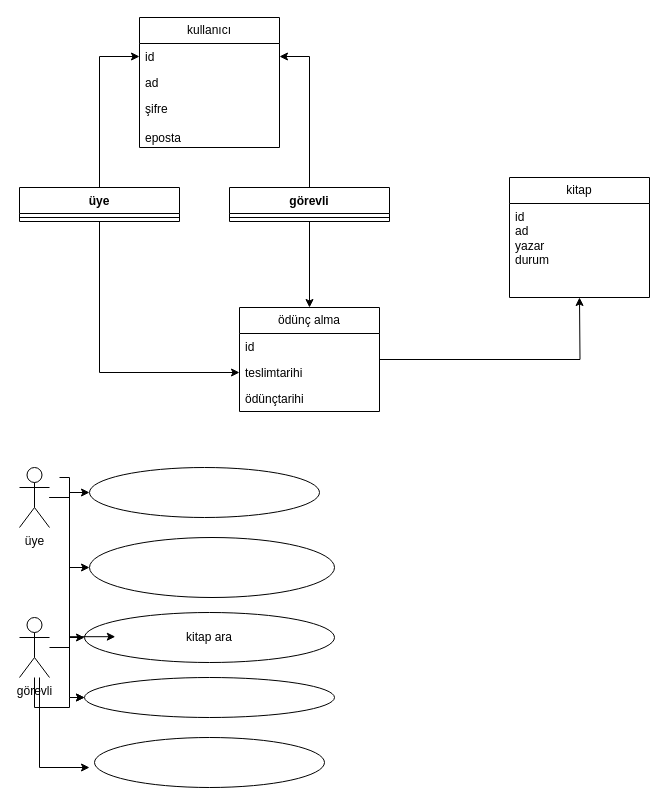
Image size: 667x805. Some labels were removed from this diagram. The centre of each missing label's shape, as x and y in pixels:
giriş yap: point 209,697
kitap ekle: point 209,762
süreuzar: point 204,492
ödünç al: point 211,567
